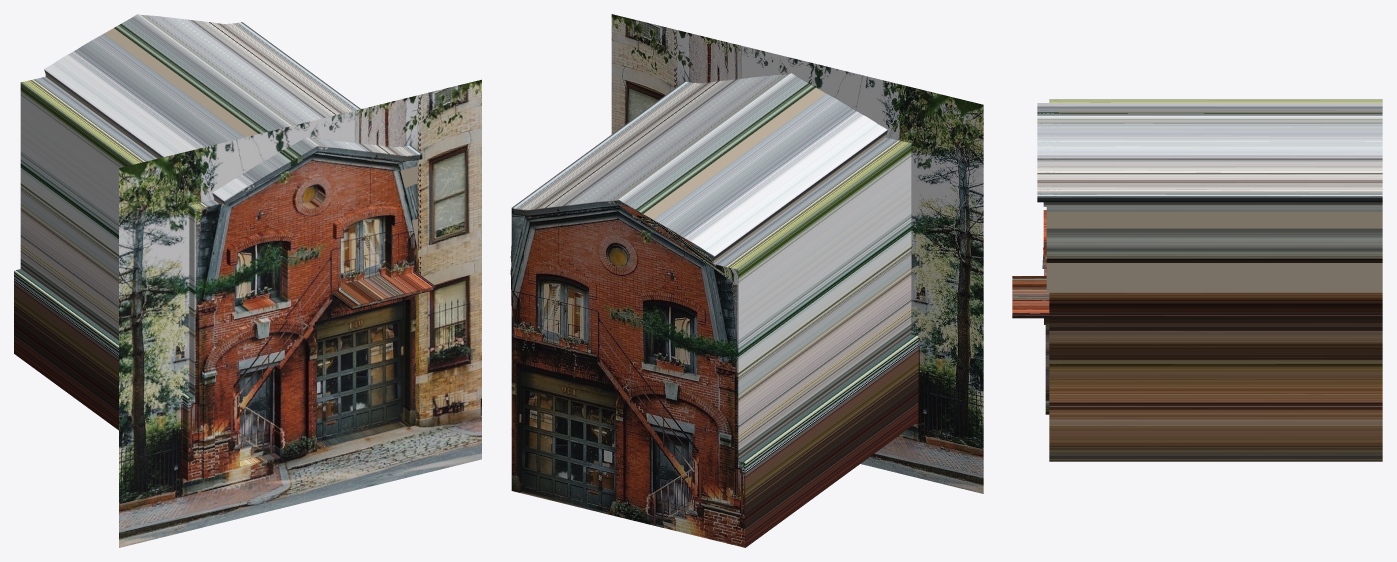
File: building 12_11-03.glb
3 renders of one model, left to right at view 1: azimuth 30°, elevation 25°; view 2: azimuth 150°, elevation 25°; view 3: azimuth 270°, elevation 25°, orthographic. The views are drawn at different scales.
Visible parts, largest first — view 1: Empty.001, Empty.002; view 2: Empty.001, Empty.002; view 3: Empty.001.
Boxes of the visible parts, x1,y1,x2,y2 form: Empty.001: [14, 14, 435, 480]; Empty.002: [119, 79, 481, 547]; Empty.001: [510, 73, 918, 547]; Empty.002: [611, 14, 983, 493]; Empty.001: [1012, 99, 1382, 461].
Size of the model in its own units: 5 by 5 by 4.61.
Materials: 1 (1 with a texture image).
